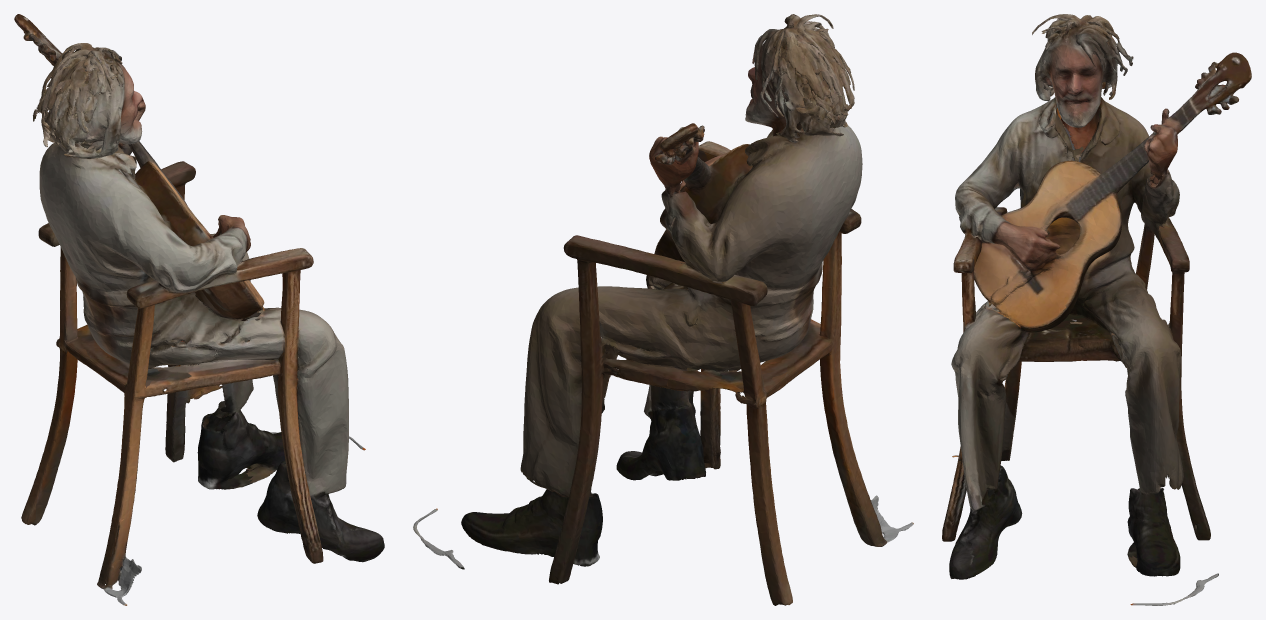
File: modelo17.glb
3 views of the same model, side by side, from view 1: azimuth 30°, elevation 25°; view 2: azimuth 150°, elevation 25°; view 3: azimuth 270°, elevation 25° (orthographic). The views are drawn at different scales.
Parts seen in each view (by area): view 1: tripo_node_071dd75d-93d8-4dc2-9a2d-fce8bab1a505; view 2: tripo_node_071dd75d-93d8-4dc2-9a2d-fce8bab1a505; view 3: tripo_node_071dd75d-93d8-4dc2-9a2d-fce8bab1a505.
Part boxes in pixels (x1,y1,x2,y2): tripo_node_071dd75d-93d8-4dc2-9a2d-fce8bab1a505: (14, 14, 384, 605); tripo_node_071dd75d-93d8-4dc2-9a2d-fce8bab1a505: (413, 14, 913, 605); tripo_node_071dd75d-93d8-4dc2-9a2d-fce8bab1a505: (942, 14, 1251, 605).
Size of the model in its own units: 0.7157 by 1 by 0.597.
1 material, 1 textured.
